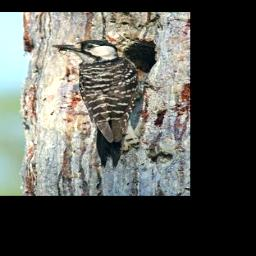Woodpecker: (50, 39, 162, 171)
